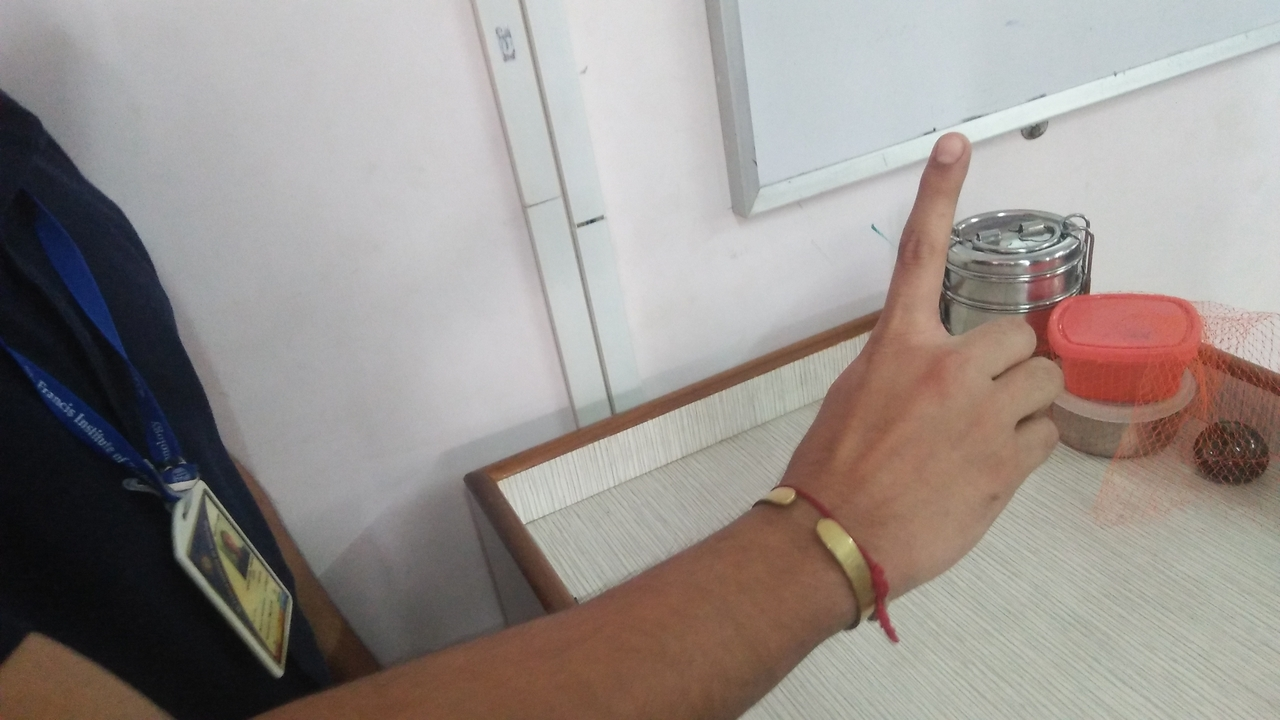fingertip: (924, 124, 986, 174)
